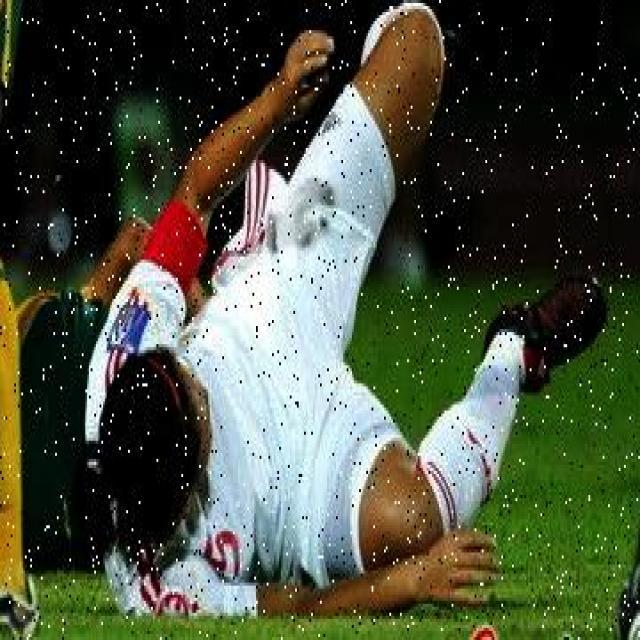fall: (95, 18, 602, 610)
